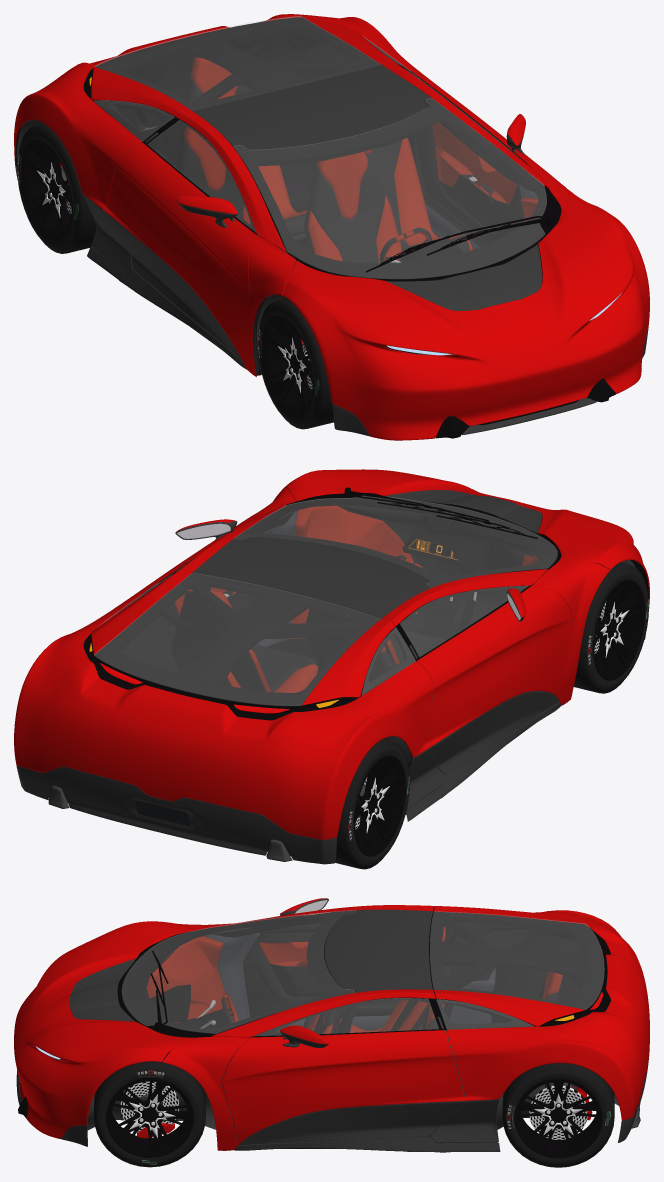
File: player_car.glb
The picture shows the model from 3 angles, top to bottom: view 1: azimuth 30°, elevation 25°; view 2: azimuth 150°, elevation 25°; view 3: azimuth 270°, elevation 25°; orthographic projection. The views are drawn at different scales.
Visible parts, largest first — view 1: BodyHood, BodyWindshield, BodyRearwindow, BodyDoorRColor1, BodyRearPanelsColor1, BodyRoofPanel, BodyWindshieldGasket, InteriorSeatsColor1, InteriorSeatsColor2, BodyPillars, InteriorPillar, InteriorRearHatch (+21 smaller); view 2: BodyRearPanelsColor1, BodyRearwindow, BodyWindshield, BodyDoorRColor1, BodyPanelsColor2, BodyRoofPanel, BodyHood, InteriorRearHatch, BodyPillars, InteriorPillar, InteriorDashMid, BodyWindshieldGasket (+22 smaller); view 3: BodyRearPanelsColor1, BodyWindshield, BodyDoorLColor1, BodyHood, BodyRearwindow, BodyRoofPanel, BodyPillars, BodyWindshieldGasket, BodyDoorLColor2, BodyPanelsColor2, InteriorRearHatch, WheelRearLRim (+25 smaller).
Boxes of the visible parts, bbox=[...] form: BodyHood: bbox=[282, 197, 649, 440]; BodyWindshield: bbox=[233, 98, 546, 278]; BodyRearwindow: bbox=[94, 16, 380, 110]; BodyDoorRColor1: bbox=[104, 142, 256, 361]; BodyRearPanelsColor1: bbox=[14, 14, 427, 209]; BodyRoofPanel: bbox=[193, 65, 430, 149]; BodyWindshieldGasket: bbox=[233, 99, 561, 281]; InteriorSeatsColor1: bbox=[184, 57, 472, 263]; InteriorSeatsColor2: bbox=[179, 78, 469, 263]; BodyPillars: bbox=[175, 61, 595, 376]; InteriorPillar: bbox=[157, 37, 432, 168]; InteriorRearHatch: bbox=[93, 17, 380, 117]; BodyRearPanelsColor1: bbox=[14, 569, 433, 839]; BodyRearwindow: bbox=[94, 573, 380, 705]; BodyWindshield: bbox=[233, 496, 557, 587]; BodyDoorRColor1: bbox=[416, 585, 572, 745]; BodyPanelsColor2: bbox=[16, 634, 645, 864]; BodyRoofPanel: bbox=[192, 537, 430, 618]; BodyHood: bbox=[282, 469, 649, 611]; InteriorRearHatch: bbox=[94, 573, 392, 710]; BodyPillars: bbox=[178, 487, 610, 705]; InteriorPillar: bbox=[177, 574, 425, 684]; InteriorDashMid: bbox=[337, 501, 538, 623]; BodyWindshieldGasket: bbox=[234, 495, 561, 587]; BodyRearPanelsColor1: bbox=[434, 906, 649, 1120]; BodyWindshield: bbox=[122, 910, 356, 1033]; BodyDoorLColor1: bbox=[221, 1030, 465, 1145]; BodyHood: bbox=[14, 921, 195, 1138]; BodyRearwindow: bbox=[430, 911, 604, 1009]; BodyRoofPanel: bbox=[324, 909, 432, 992]; BodyPillars: bbox=[162, 905, 435, 1150]; BodyWindshieldGasket: bbox=[117, 911, 356, 1037]; BodyDoorLColor2: bbox=[239, 1101, 465, 1145]; BodyPanelsColor2: bbox=[16, 1055, 649, 1152]; InteriorRearHatch: bbox=[429, 911, 603, 1026]; WheelRearLRim: bbox=[514, 1078, 602, 1158].
Size of the model in its own units: 2.34 by 1.15 by 4.36.
23 materials, 5 textured.
